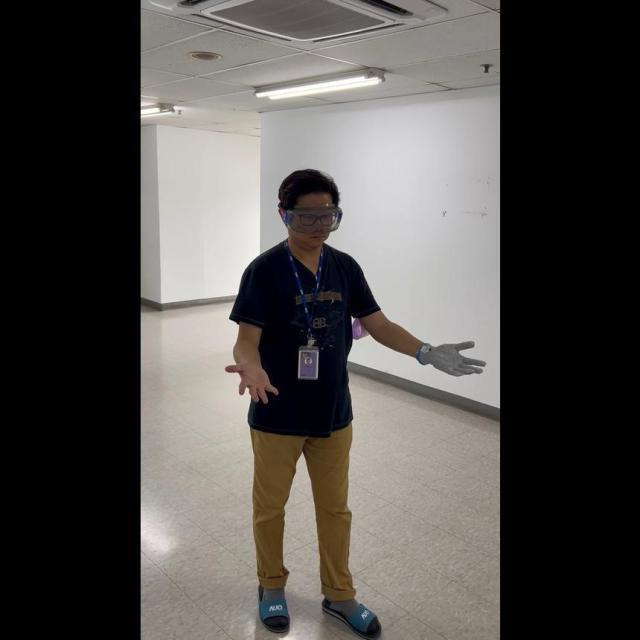bare_hand: (223, 358, 277, 404)
gloved_hand: (415, 336, 484, 380)
